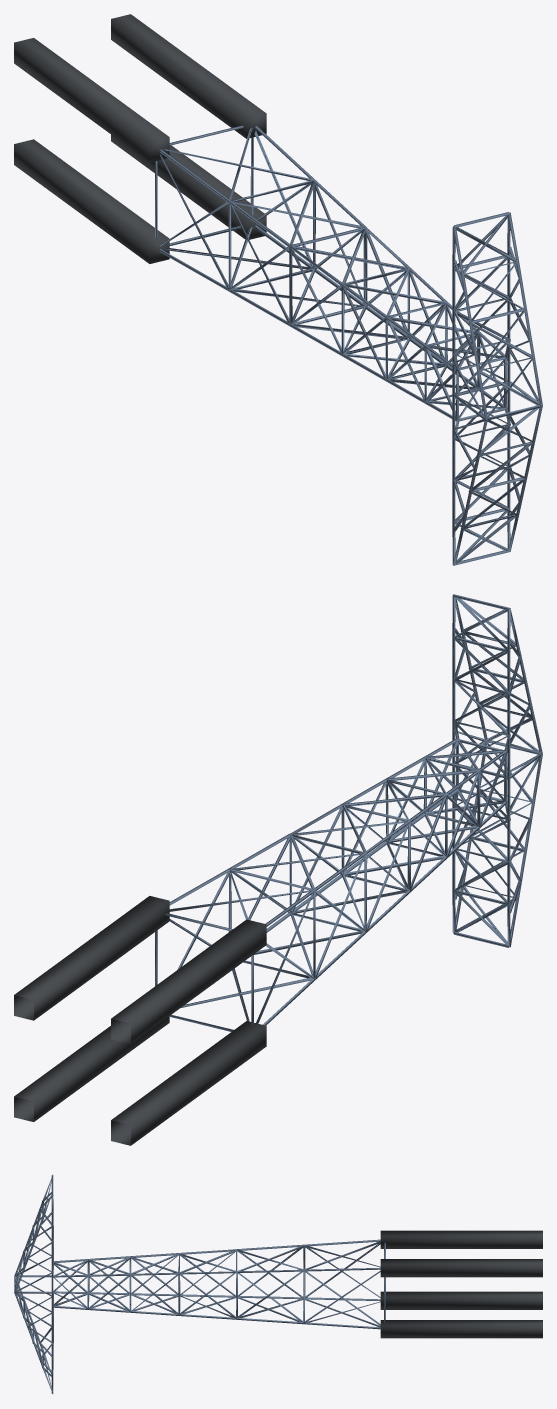
The model's file is Pylon_AerialCab_ns.obj.
3 renders of one model, top to bottom at view 1: azimuth 30°, elevation 25°; view 2: azimuth 150°, elevation 25°; view 3: azimuth 270°, elevation 25°, orthographic. The views are drawn at different scales.
Visible parts, largest first — view 1: Pylon_AerialCab_ns; view 2: Pylon_AerialCab_ns; view 3: Pylon_AerialCab_ns.
Part boxes in pixels (x1,y1,x2,y2): Pylon_AerialCab_ns: [14, 14, 542, 565]; Pylon_AerialCab_ns: [14, 594, 542, 1145]; Pylon_AerialCab_ns: [14, 1175, 542, 1393].
Bounding box in the file's own units: 5.44 × 15.13 × 35.59.
Materials: 1 (1 with a texture image).
